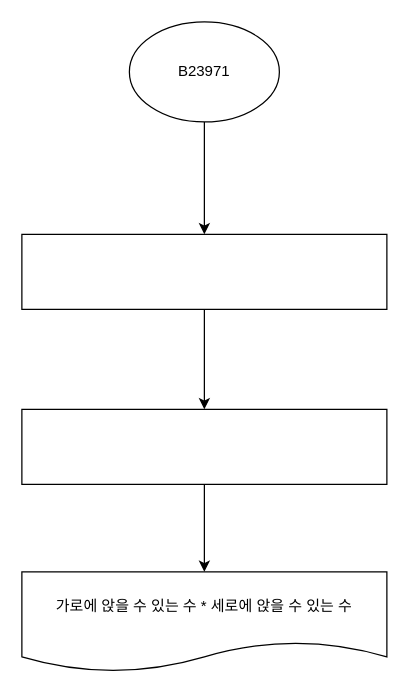
This 409x694 diagram has some shape labels left out. The centre of each missing label's shape, as x and y in pixels:
"가로에 앉을 수 있는 수 = 올림(강의실 가로 / (거리두기 + 1))" goes at point (204, 271).
"세로에 앉을 수 있는 수 = 올림(강의실 세로 / (거리두기 + 1))" goes at point (204, 446).
